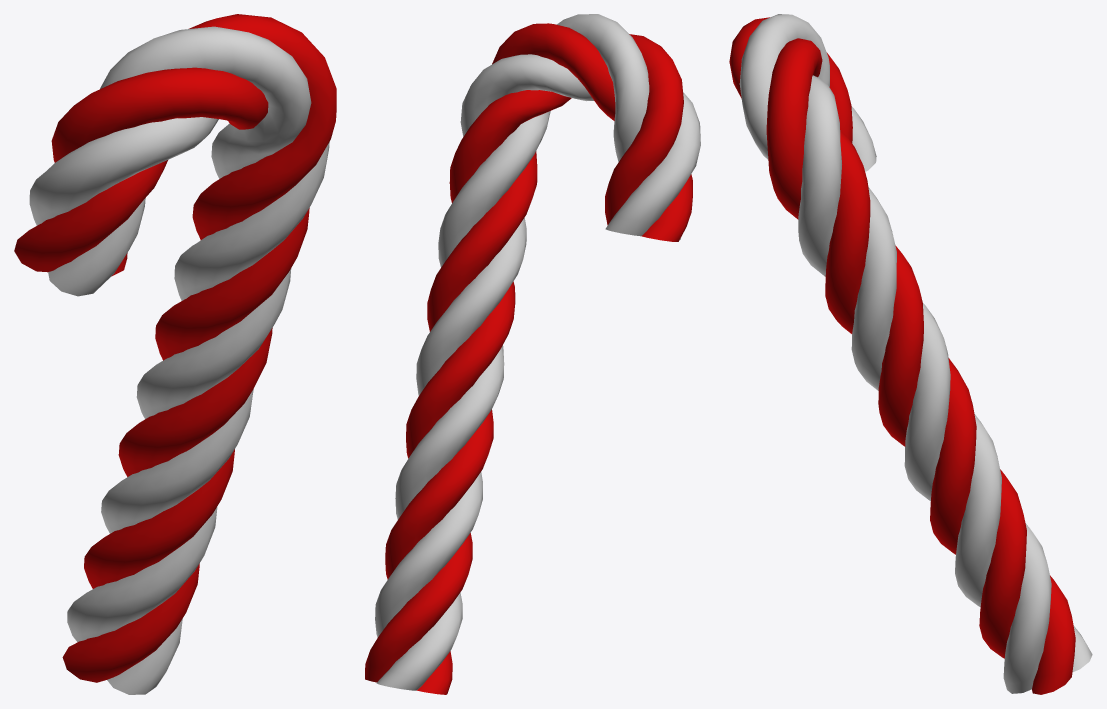
Rendered from Zuckstange.fbx.
3 renders of one model, left to right at view 1: azimuth 30°, elevation 25°; view 2: azimuth 150°, elevation 25°; view 3: azimuth 270°, elevation 25°, orthographic. The views are drawn at different scales.
Visible parts, largest first — view 1: Cylinder; view 2: Cylinder; view 3: Cylinder.
Part boxes in pixels (x1,y1,x2,y2): Cylinder: [14, 14, 336, 694]; Cylinder: [365, 14, 700, 694]; Cylinder: [729, 14, 1092, 694].
Bounding box in the file's own units: 331 × 845 × 439.
